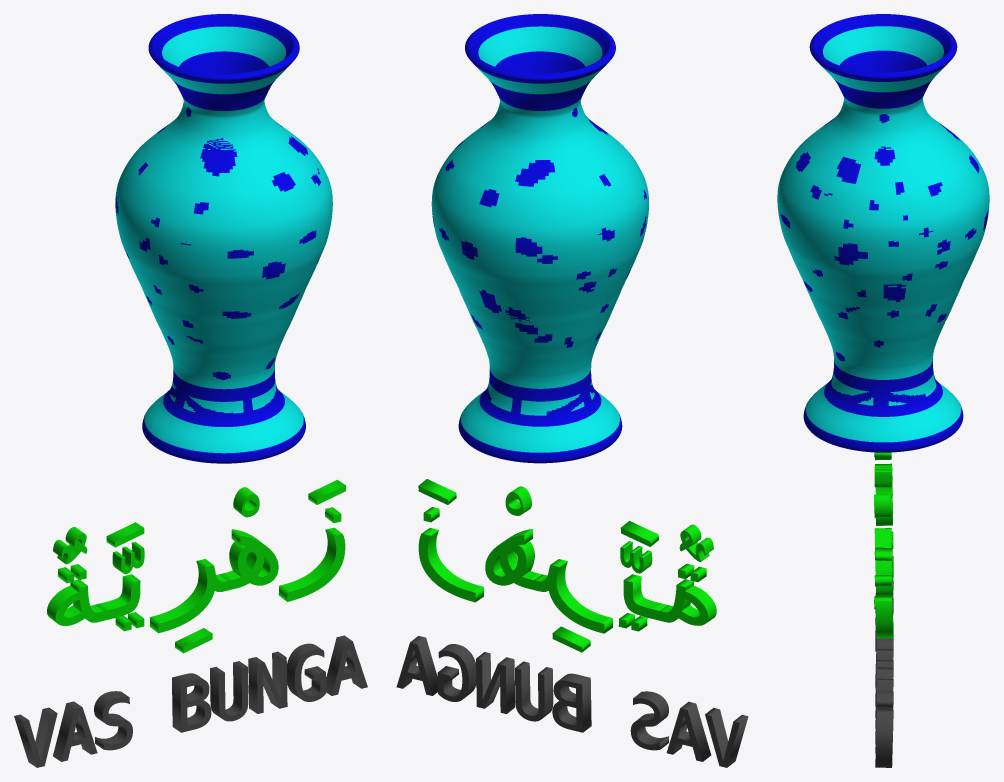
The model's file is vase.fbx.
The picture shows the model from 3 angles, left to right: view 1: azimuth 30°, elevation 25°; view 2: azimuth 150°, elevation 25°; view 3: azimuth 270°, elevation 25°; orthographic projection. The views are drawn at different scales.
Parts seen in each view (by area): view 1: Circle, Teks.006, Text, Teks.005, Teks.003, Teks.001; view 2: Circle, Teks.006, Text, Teks.005, Teks.003, Teks.001; view 3: Circle, Teks.006, Text, Teks.001, Teks.003.
Part boxes in pixels (x1,y1,x2,y2): Circle: [115, 14, 332, 463]; Teks.006: [14, 635, 367, 767]; Text: [47, 507, 345, 633]; Teks.005: [53, 527, 87, 564]; Teks.003: [112, 542, 144, 574]; Teks.001: [233, 487, 259, 517]; Circle: [431, 14, 648, 463]; Teks.006: [396, 636, 748, 767]; Text: [418, 507, 716, 633]; Teks.005: [679, 524, 713, 561]; Teks.003: [620, 541, 652, 573]; Teks.001: [505, 486, 531, 515]; Circle: [777, 14, 989, 452]; Teks.006: [875, 556, 893, 767]; Text: [874, 452, 893, 638]; Teks.001: [874, 494, 891, 517]; Teks.003: [874, 465, 891, 487].
Bounding box in the file's own units: 463 × 868 × 253.
